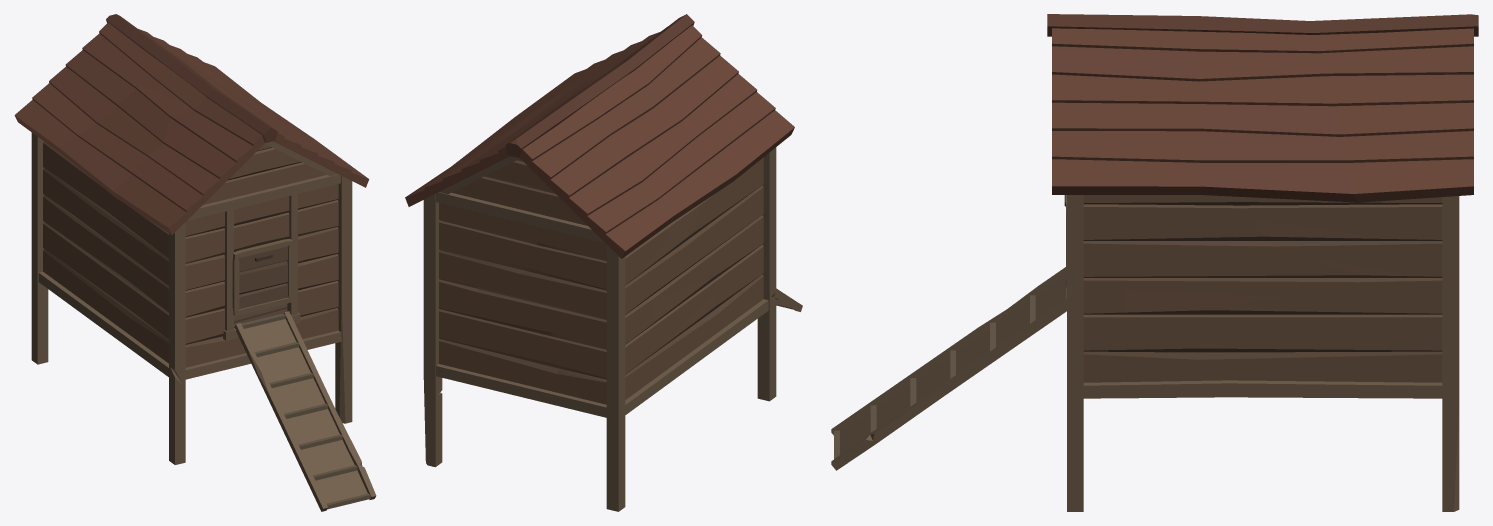
Rendered from SM_Props_Farm_ChickenCoop.fbx.
The picture shows the model from 3 angles, left to right: view 1: azimuth 30°, elevation 25°; view 2: azimuth 150°, elevation 25°; view 3: azimuth 270°, elevation 25°; orthographic projection. The views are drawn at different scales.
Parts seen in each view (by area): view 1: SM_Props_Farm_ChickenCoop, SM_Props_Farm_ChickenCoop_Door; view 2: SM_Props_Farm_ChickenCoop; view 3: SM_Props_Farm_ChickenCoop.
Part boxes in pixels (x1,y1,x2,y2): SM_Props_Farm_ChickenCoop: (14,14,376,511); SM_Props_Farm_ChickenCoop_Door: (232,239,293,315); SM_Props_Farm_ChickenCoop: (405,14,802,511); SM_Props_Farm_ChickenCoop: (831,14,1478,511).
Size of the model in its own units: 171 by 258 by 345.
